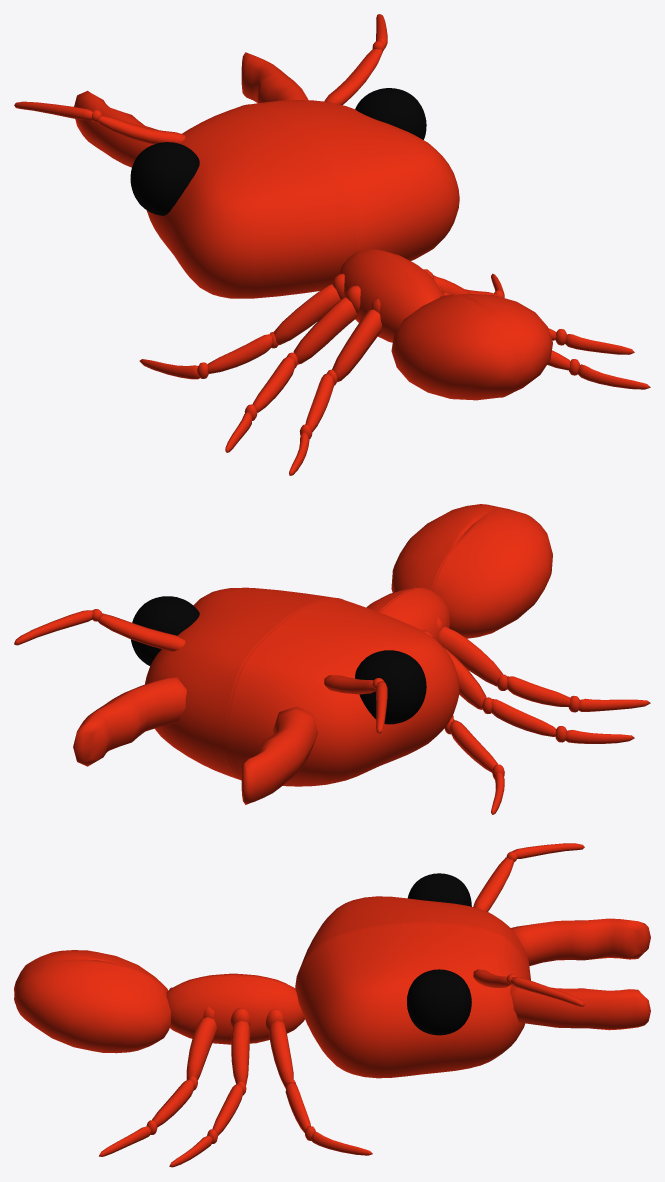
The model's file is minion rouge.fbx.
3 renders of one model, top to bottom at view 1: azimuth 30°, elevation 25°; view 2: azimuth 150°, elevation 25°; view 3: azimuth 270°, elevation 25°, orthographic. The views are drawn at different scales.
Parts seen in each view (by area): view 1: Minion rouge; view 2: Minion rouge; view 3: Minion rouge.
Boxes of the visible parts, x1,y1,x2,y2 form: Minion rouge: [14, 14, 650, 475]; Minion rouge: [14, 504, 650, 814]; Minion rouge: [14, 843, 650, 1167].
Bounding box in the file's own units: 1.04 × 0.4575 × 1.57.
